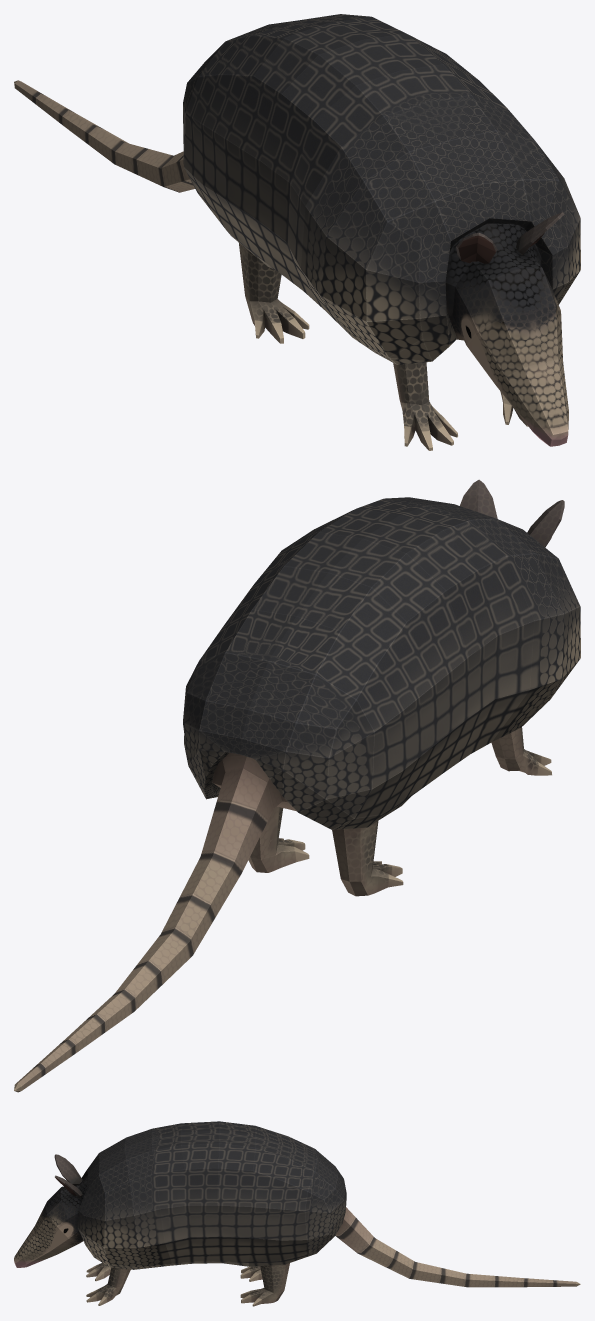
3 views of the same model, one above another, from view 1: azimuth 30°, elevation 25°; view 2: azimuth 150°, elevation 25°; view 3: azimuth 270°, elevation 25° (orthographic). The views are drawn at different scales.
Visible parts, largest first — view 1: Armadillo_Mesh; view 2: Armadillo_Mesh; view 3: Armadillo_Mesh.
Part boxes in pixels (x1=…): Armadillo_Mesh: x1=14, y1=14, x2=580, y2=450; Armadillo_Mesh: x1=14, y1=479, x2=580, y2=1092; Armadillo_Mesh: x1=14, y1=1121, x2=580, y2=1306.
Size of the model in its own units: 2.79 by 3.36 by 10.95.
1 material, 1 textured.
